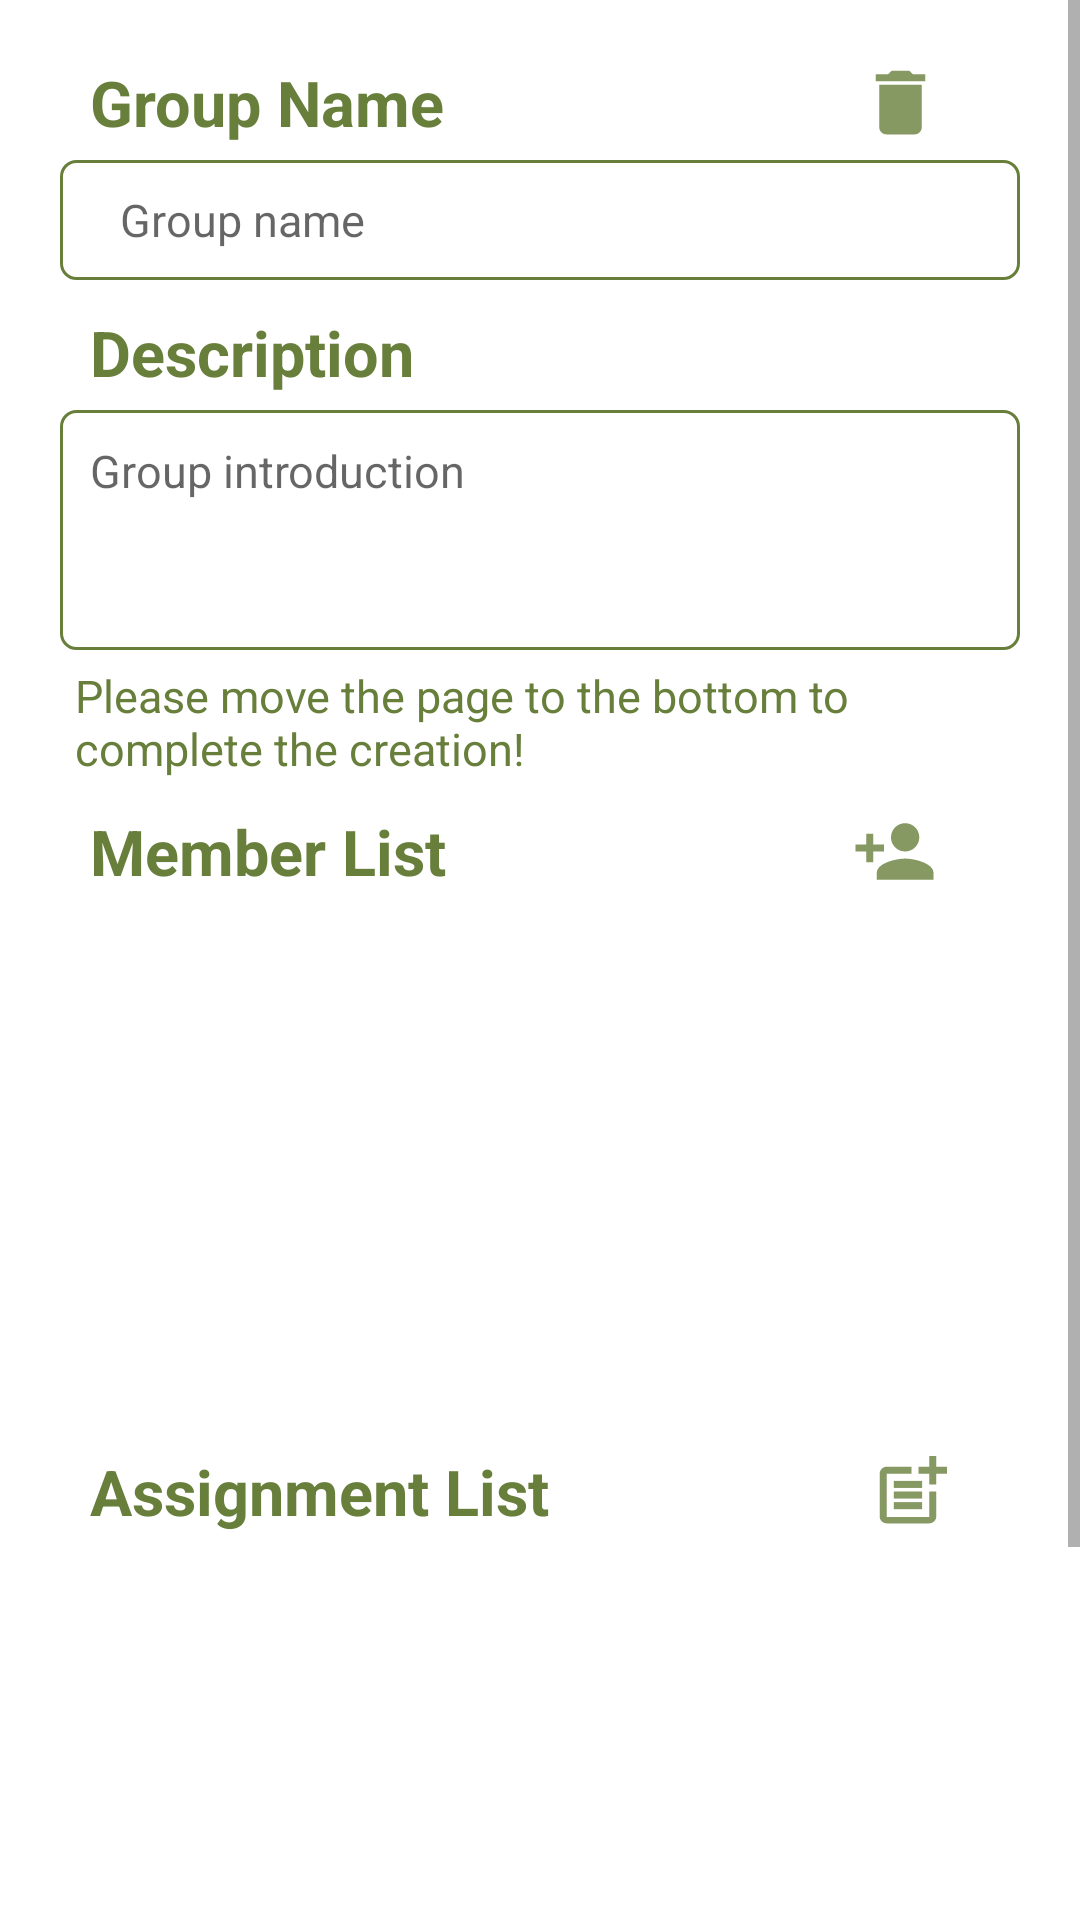

Point at icon controls on the screen. Image size 1080px x 1920px, points as [x,y].
assignmen add: [913,1490]
delete: [900,102]
member add: [894,851]
